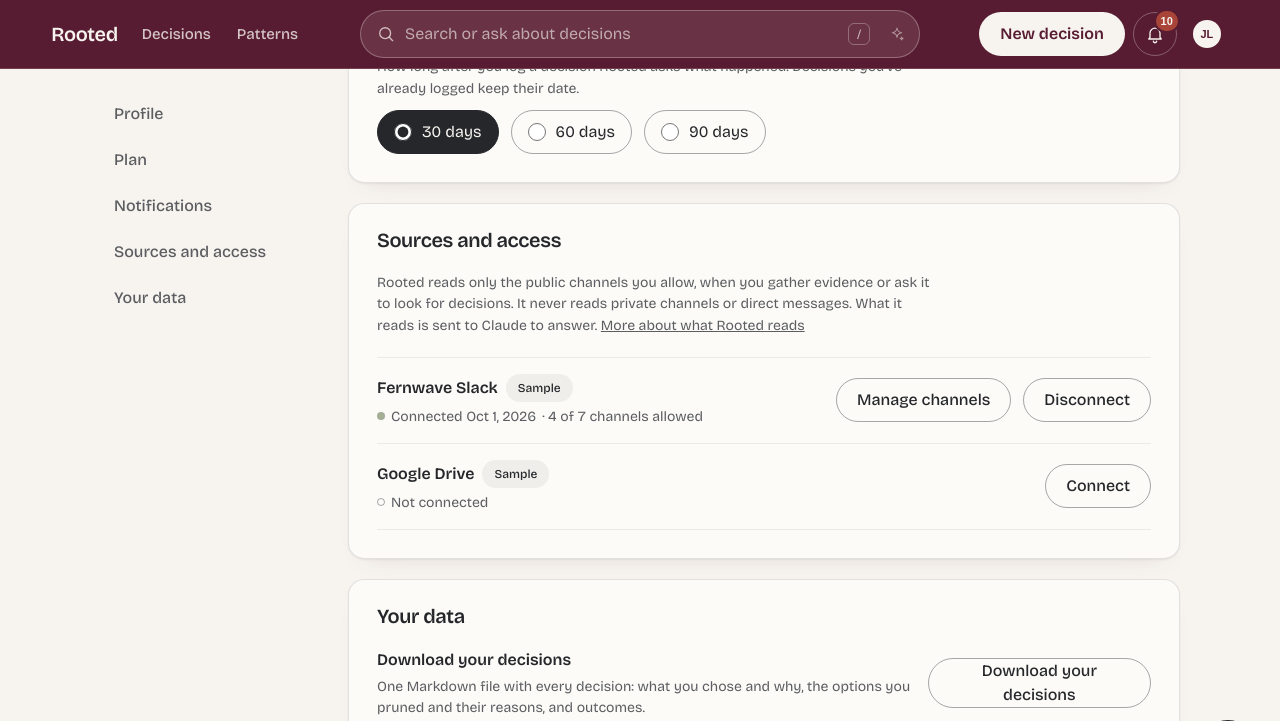
Scenario: Settings › F-02: channels are managed right in Settings, without leaving for setup
Later steps or results of the test are not shown.
(page scrolled)
Click the button named "Manage channels for Fernwave Slack" at (924, 400), box [836,378,1011,422]
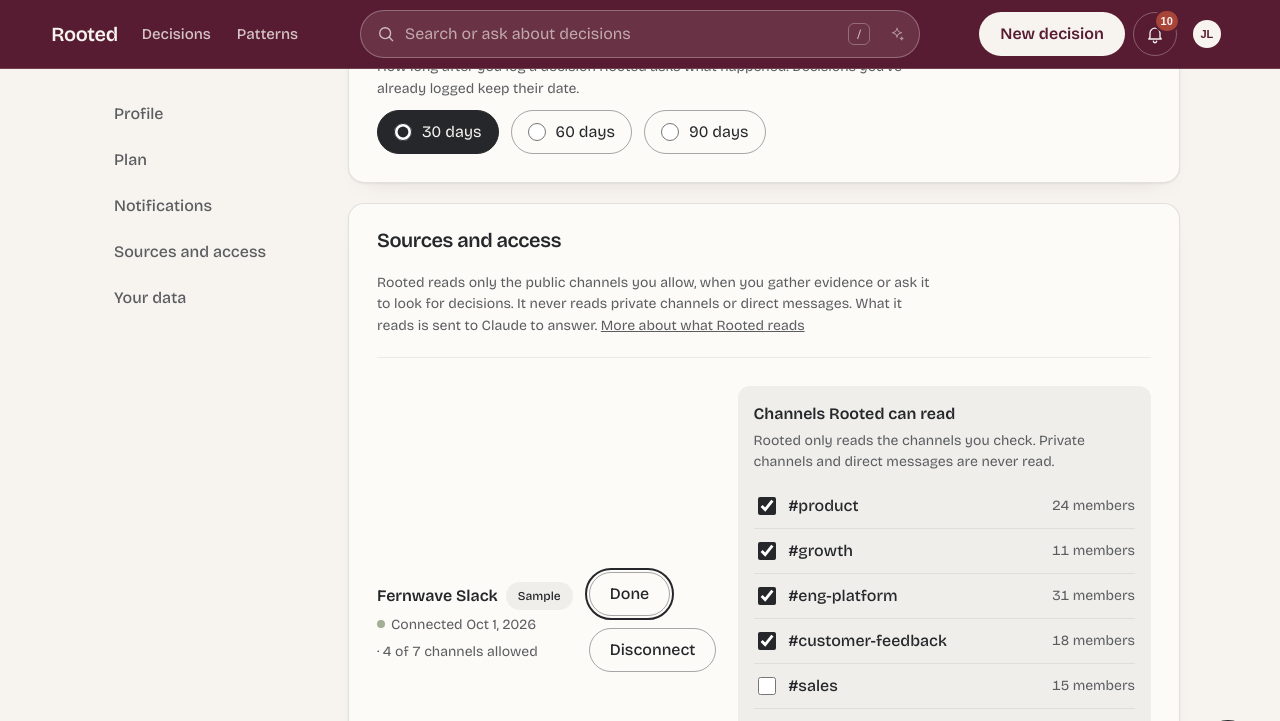
Now the button named "Manage channels for Fernwave Slack" is expanded, box [589,572,670,616]
